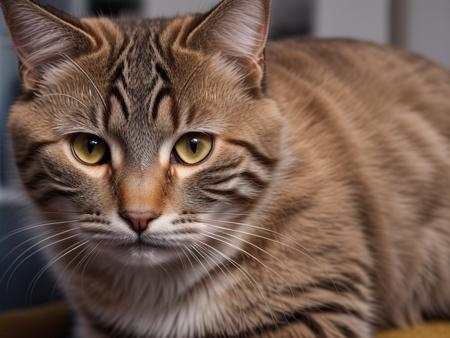cat: (1, 1, 450, 337)
